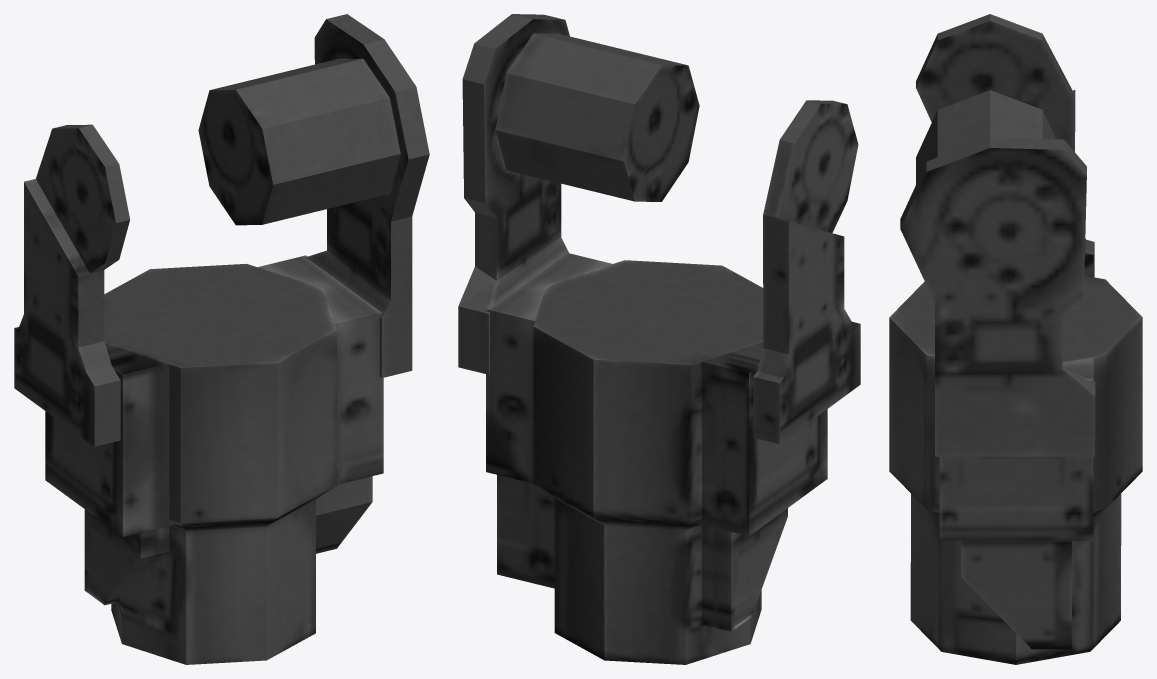
Rendered from r_larm.dae.
3 views of the same model, side by side, from view 1: azimuth 30°, elevation 25°; view 2: azimuth 150°, elevation 25°; view 3: azimuth 270°, elevation 25° (orthographic).
Visible parts, largest first — view 1: drc_r_elbow_rx; view 2: drc_r_elbow_rx; view 3: drc_r_elbow_rx.
Boxes of the visible parts, left/top/right/bottom form: drc_r_elbow_rx: left=14, top=14, right=429, bottom=664; drc_r_elbow_rx: left=458, top=14, right=860, bottom=664; drc_r_elbow_rx: left=889, top=14, right=1142, bottom=664.
Bounding box in the file's own units: 0.1333 × 0.2219 × 0.0927.
Materials: 1 (1 with a texture image).
